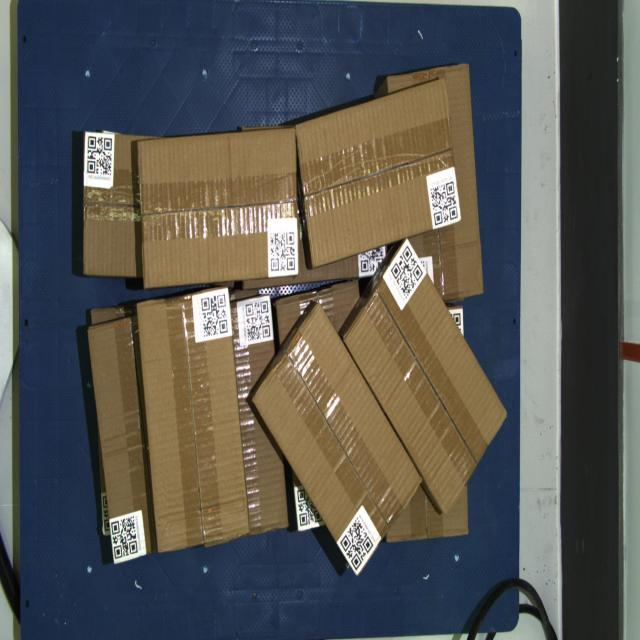box: (252, 303, 424, 577), (343, 238, 508, 515), (296, 77, 462, 267), (137, 287, 250, 553), (138, 128, 299, 290)
